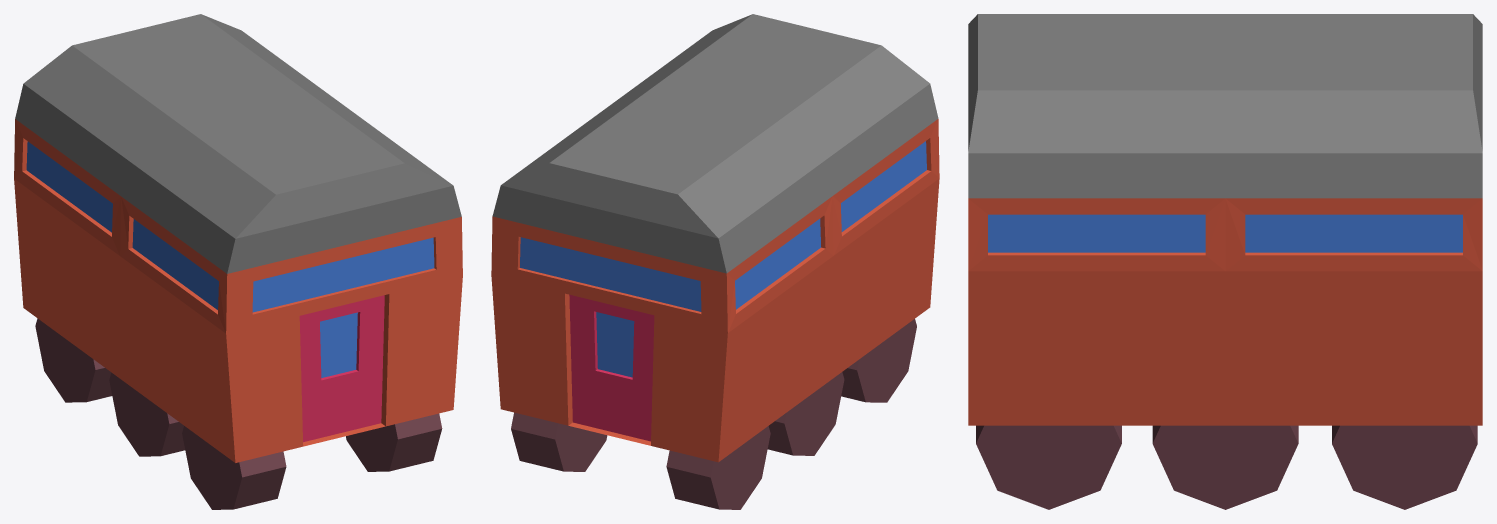
Rendered from TrainModel.dae.
3 views of the same model, side by side, from view 1: azimuth 30°, elevation 25°; view 2: azimuth 150°, elevation 25°; view 3: azimuth 270°, elevation 25° (orthographic). The views are drawn at different scales.
Visible parts, largest first — view 1: body, wheel.003, wheel, wheel.005, wheel.004; view 2: body, wheel.005, wheel.002, wheel.004, wheel.003; view 3: body, wheel.001, wheel.002, wheel.
Part boxes in pixels (x1,y1,x2,y2): body: (14,14,462,462); wheel.003: (182,426,286,509); wheel: (346,413,442,471); wheel.005: (35,318,112,402); wheel.004: (109,372,185,456); body: (491,14,939,462); wheel.005: (666,426,770,509); wheel.002: (511,412,607,471); wheel.004: (767,372,844,455); wheel.003: (841,319,916,402); body: (968,14,1482,425); wheel.001: (1152,425,1298,509); wheel.002: (1332,425,1477,509); wheel: (976,425,1121,509).
Bounding box in the file's own units: 1.72 × 2.67 × 2.28.
